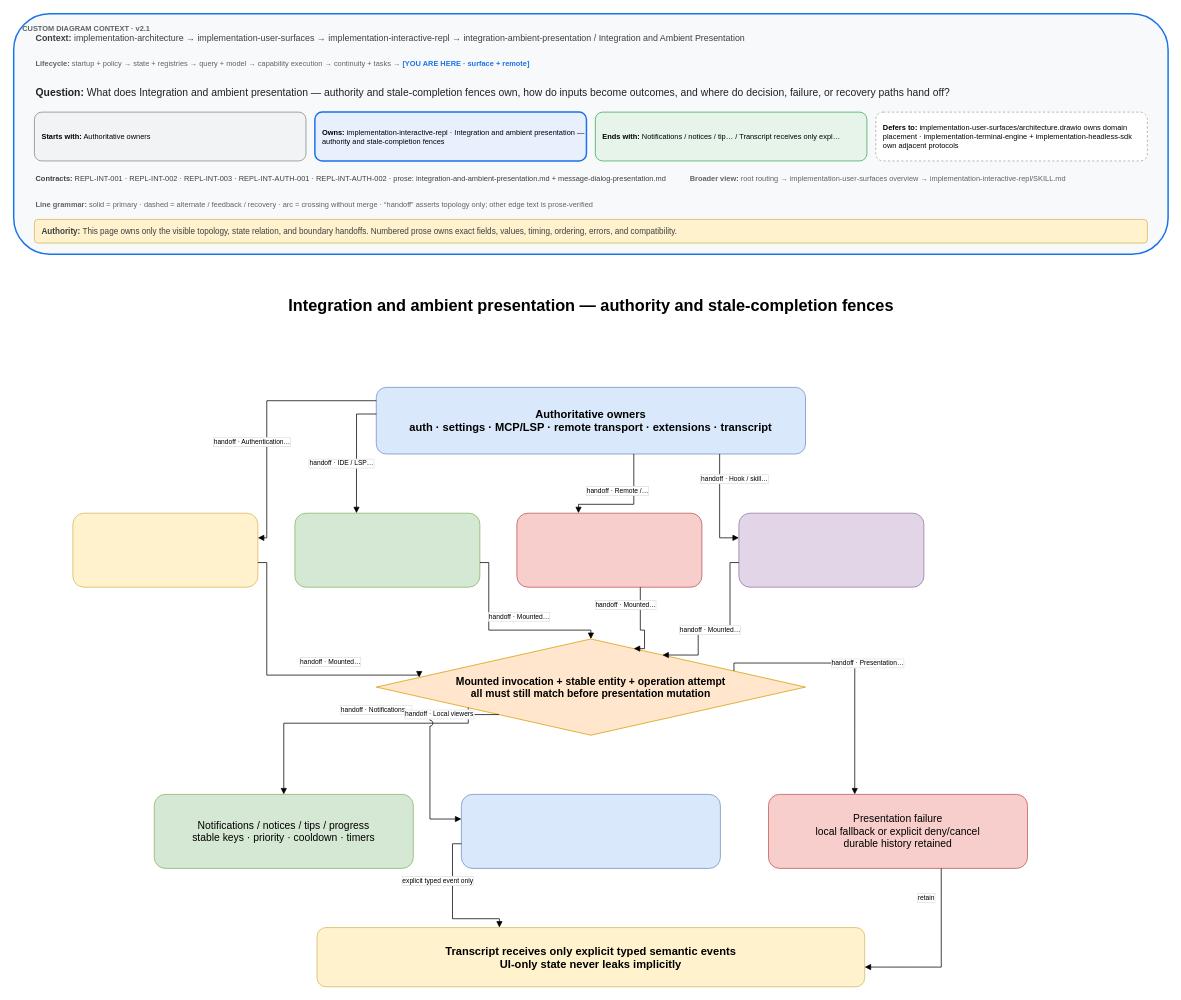
Some shapes in this 1181 by 1000 pixel diagram are drawn without their labels. Here are the shapes that lost their labels. From the top down, the centre of each, then its label:
the point at 165,549: Authentication / handoff typed state machine secret-aware settlement
the point at 387,549: IDE / LSP adapter schema validation client-identity fence
the point at 609,549: Remote / teleport adapter correlated permission disconnect cleanup
the point at 831,549: Hook / skill browsers read-only attribution policy explanation
the point at 590,831: Local viewers search and preview fencing export only after confirmed side effect
